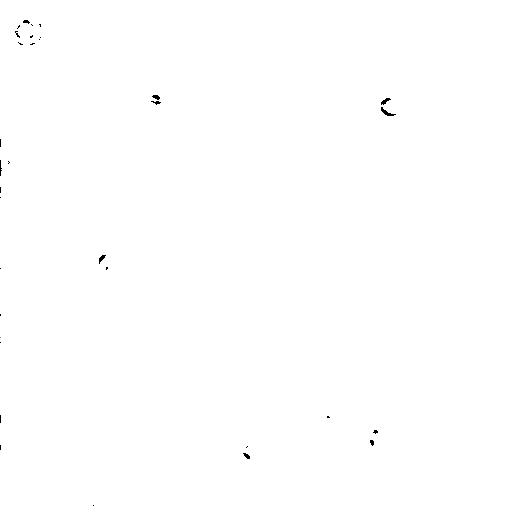micro-algae: (1, 147, 23, 186), (93, 252, 120, 283), (13, 16, 42, 44), (363, 423, 388, 453), (238, 441, 261, 464), (379, 95, 401, 115), (1, 418, 11, 446)
